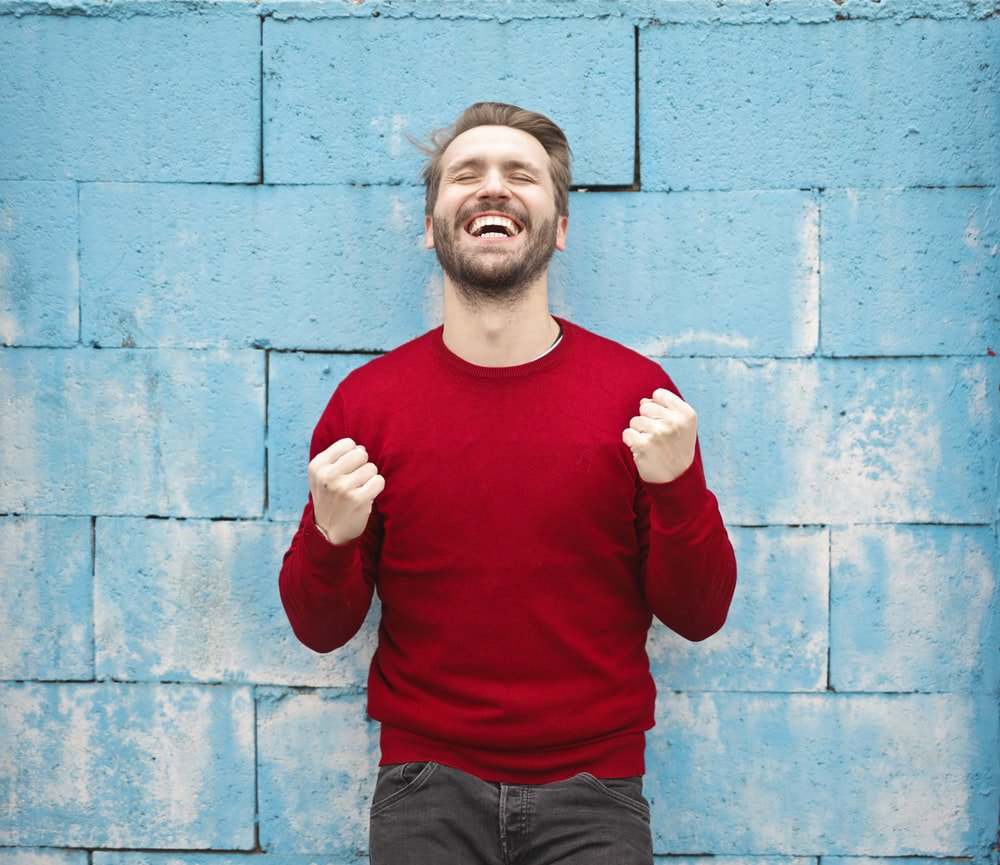noMask: (392, 98, 621, 311)
